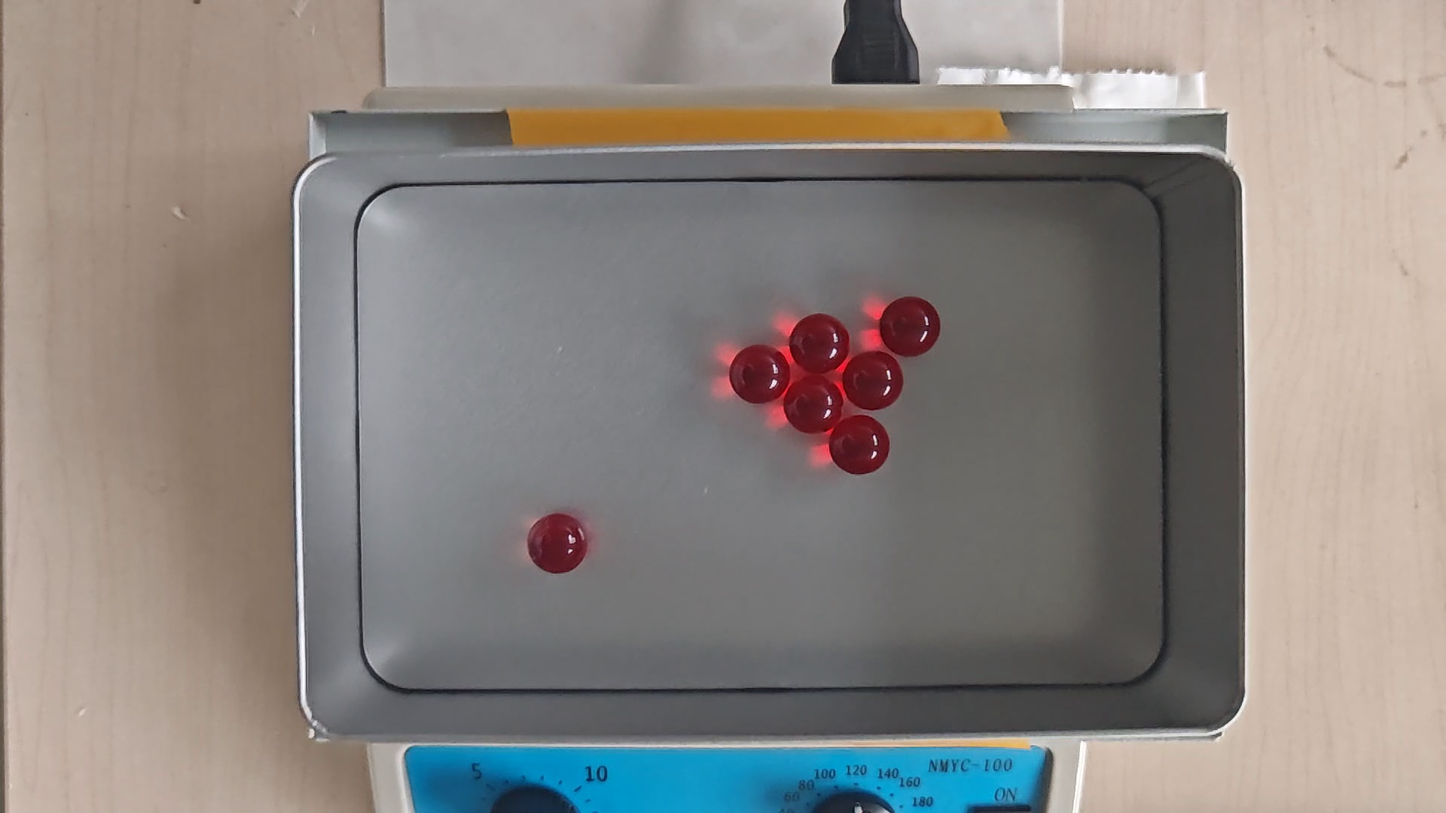ball: (727, 344, 792, 406), (879, 294, 942, 357), (526, 513, 589, 575), (844, 349, 904, 412), (789, 313, 851, 373), (784, 375, 846, 435), (830, 415, 891, 475)
container: (358, 178, 1164, 693)
